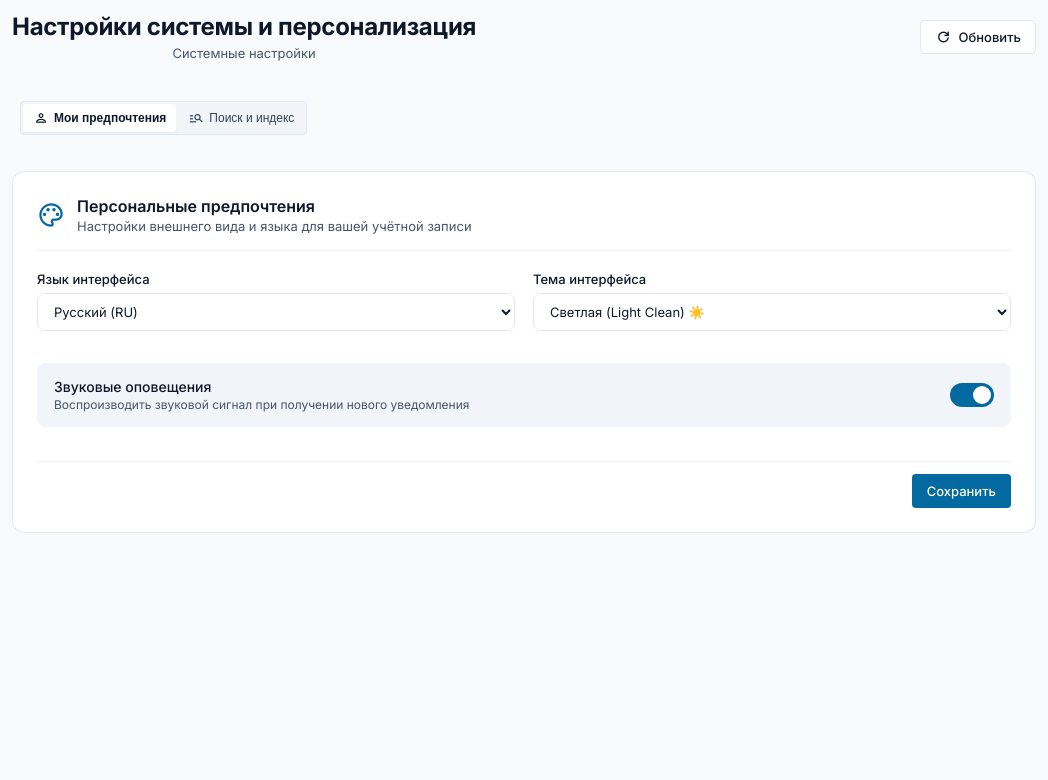
Test: SettingsComponent UI contracts › shows the search tab from search permission and destroys its child on a structural tab switch
The image size is (1048, 780).
Step 1. Click the tab with id "settings-search-tab" → (241, 118), box [178,104,304,132]
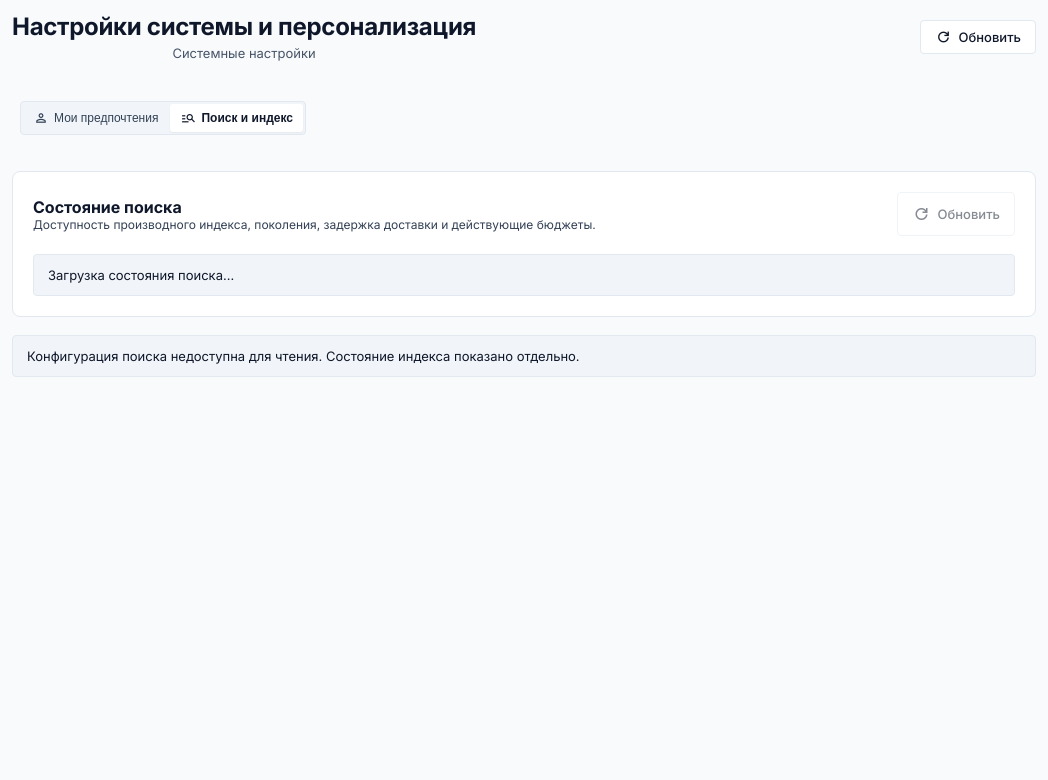
Result: the element that starts with "Состояние поиска" is shown at [12,171,1036,377]
Step 2. Click the tab with id "settings-preferences-tab" → (96, 118), box [23,104,168,132]
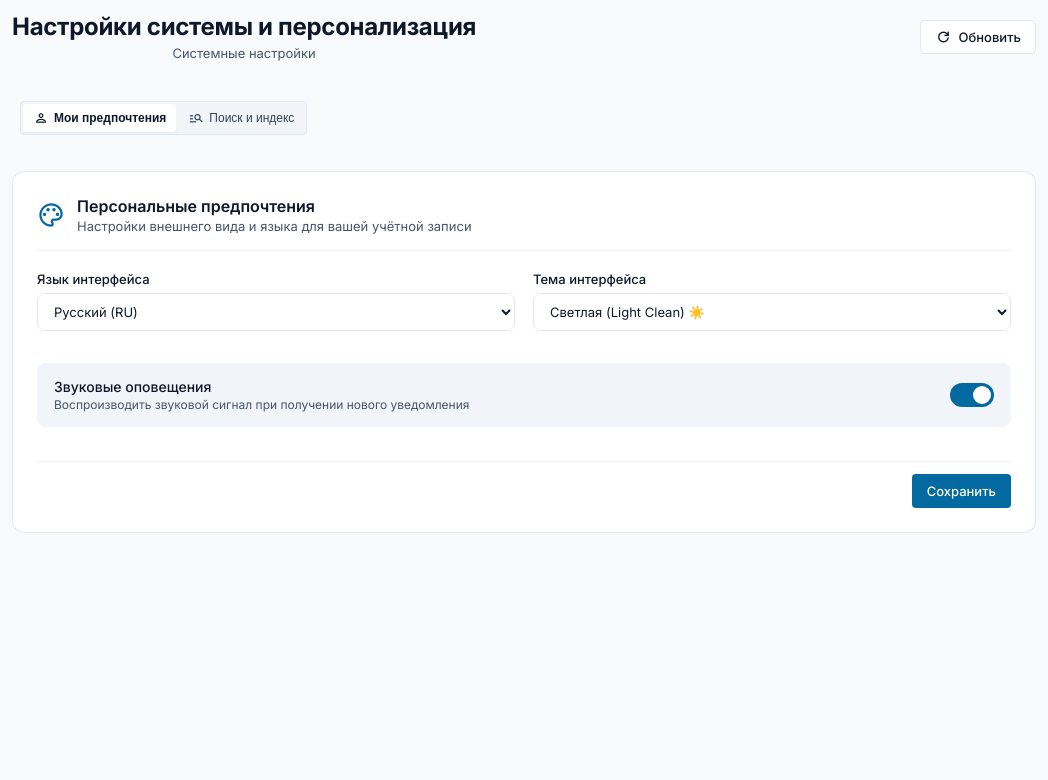
Result: the panel with id "settings-search-panel" is gone
